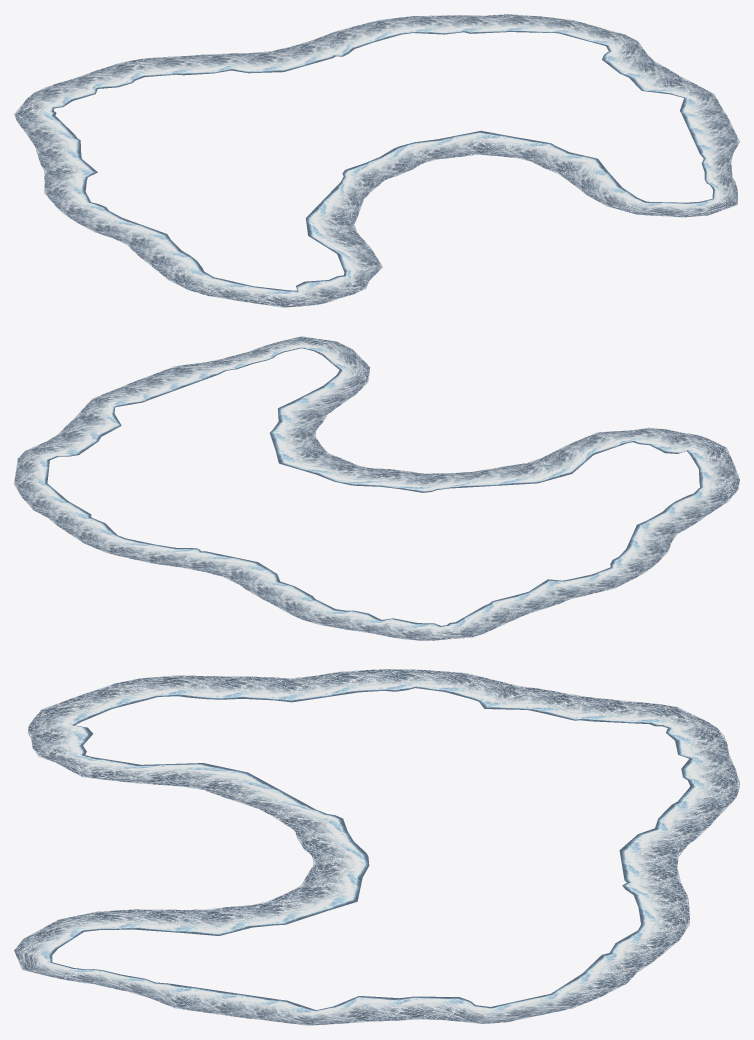
The model's file is island_04_coast.fbx.
3 views of the same model, one above another, from view 1: azimuth 30°, elevation 25°; view 2: azimuth 150°, elevation 25°; view 3: azimuth 270°, elevation 25° (orthographic). The views are drawn at different scales.
Visible parts, largest first — view 1: island_04_coast; view 2: island_04_coast; view 3: island_04_coast.
Part boxes in pixels (x1,y1,x2,y2): island_04_coast: [14, 14, 739, 307]; island_04_coast: [14, 336, 739, 640]; island_04_coast: [14, 669, 739, 1025].
Size of the model in its own units: 83.96 by 0 by 72.22.
